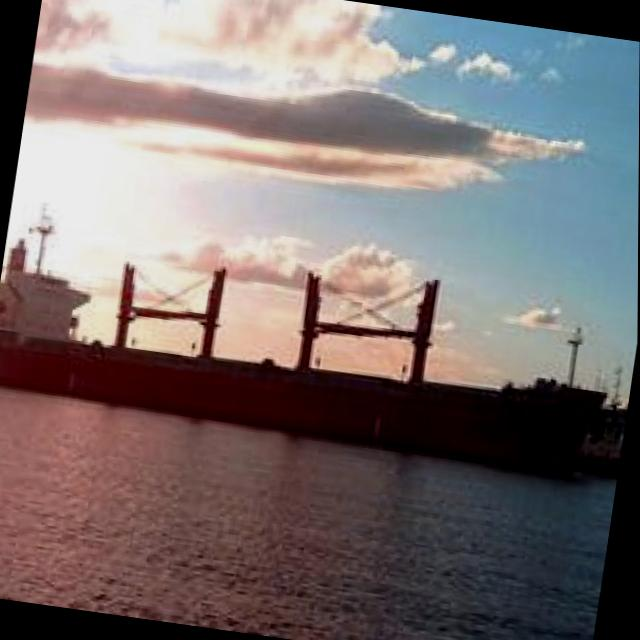ship2: (0, 222, 602, 472)
